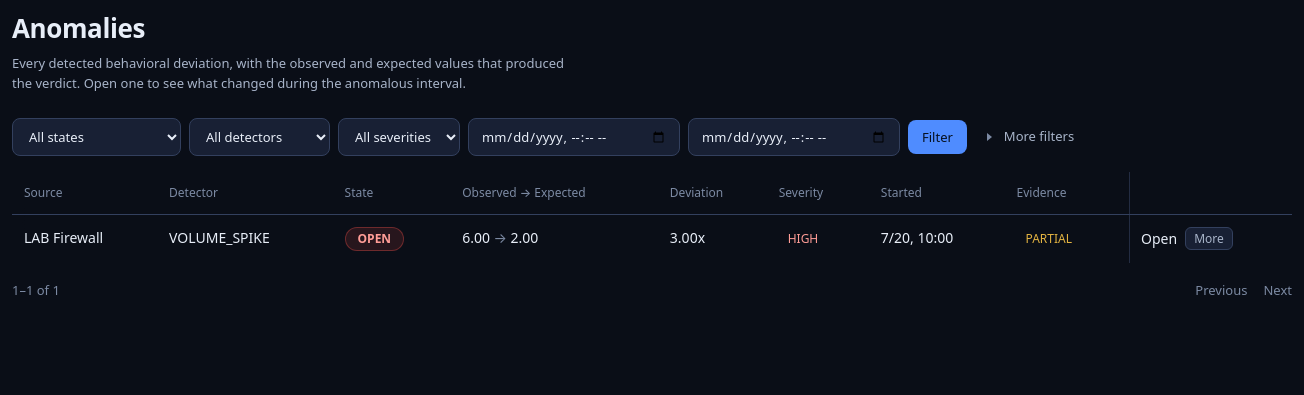
it: row disclosure › reveals the moved fields on demand
Step 1. Click the button with aria-label "Show technical detail" → click(1209, 239), box [1185, 227, 1233, 250]
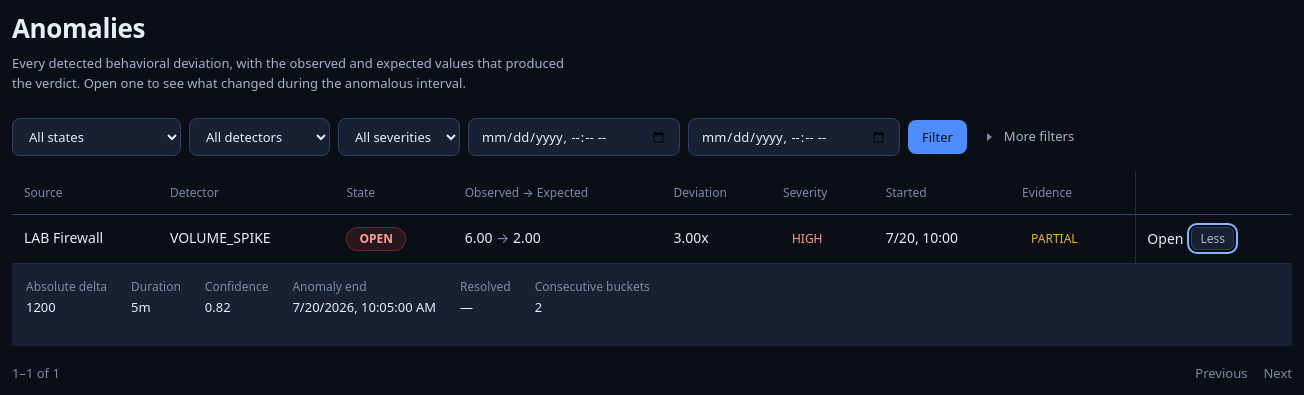
Check: the text "Absolute delta" is shown, box [26, 278, 107, 296]
Check: the text "Duration" is shown, box [131, 278, 181, 296]
Check: the text "Confidence" is shown, box [205, 278, 268, 296]
